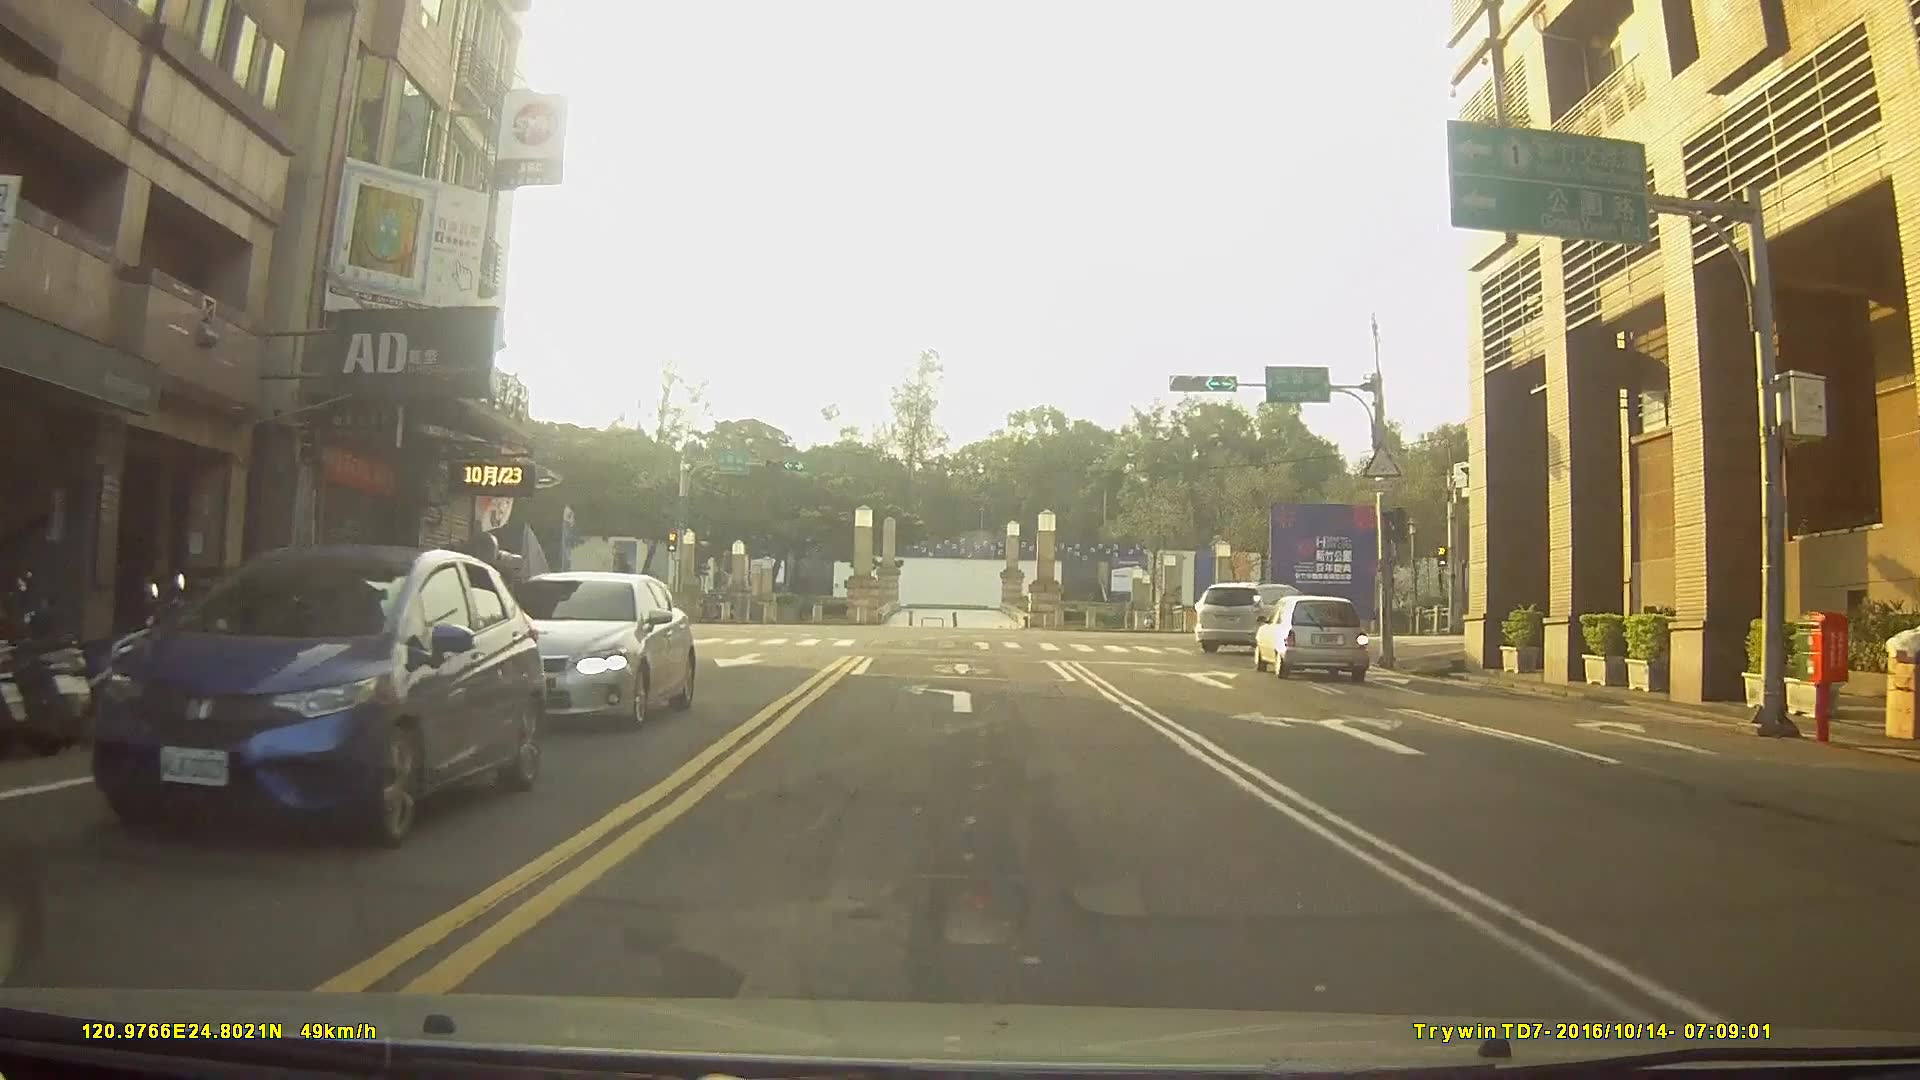vehicle: (86, 541, 542, 851), (477, 574, 694, 732), (1254, 593, 1369, 676), (1193, 582, 1321, 654)
